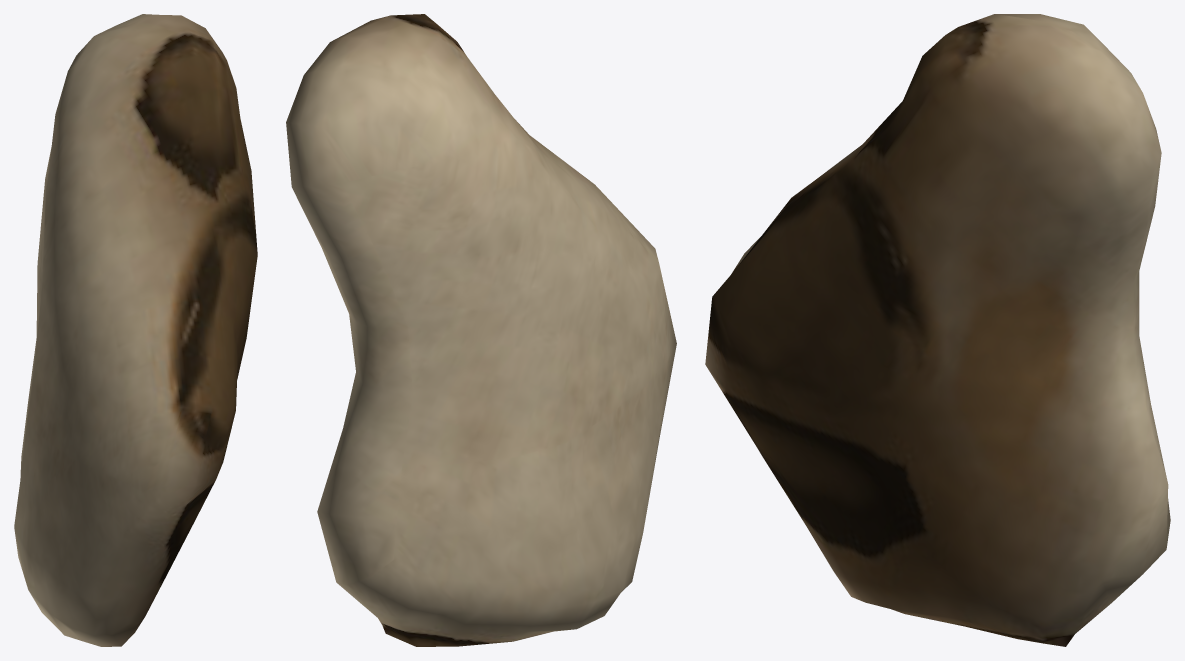
File: Tarsal_I.glb
3 views of the same model, side by side, from view 1: azimuth 30°, elevation 25°; view 2: azimuth 150°, elevation 25°; view 3: azimuth 270°, elevation 25° (orthographic). The views are drawn at different scales.
Visible parts, largest first — view 1: Tarsal_I_Left1:Group444; view 2: Tarsal_I_Left1:Group444; view 3: Tarsal_I_Left1:Group444.
Boxes of the visible parts, box(x1,y1,x2,y2) form: Tarsal_I_Left1:Group444: box(14, 14, 257, 646); Tarsal_I_Left1:Group444: box(286, 14, 676, 646); Tarsal_I_Left1:Group444: box(705, 14, 1170, 646).
Size of the model in its own units: 5.35 by 12.08 by 7.95.
1 material, 1 textured.
